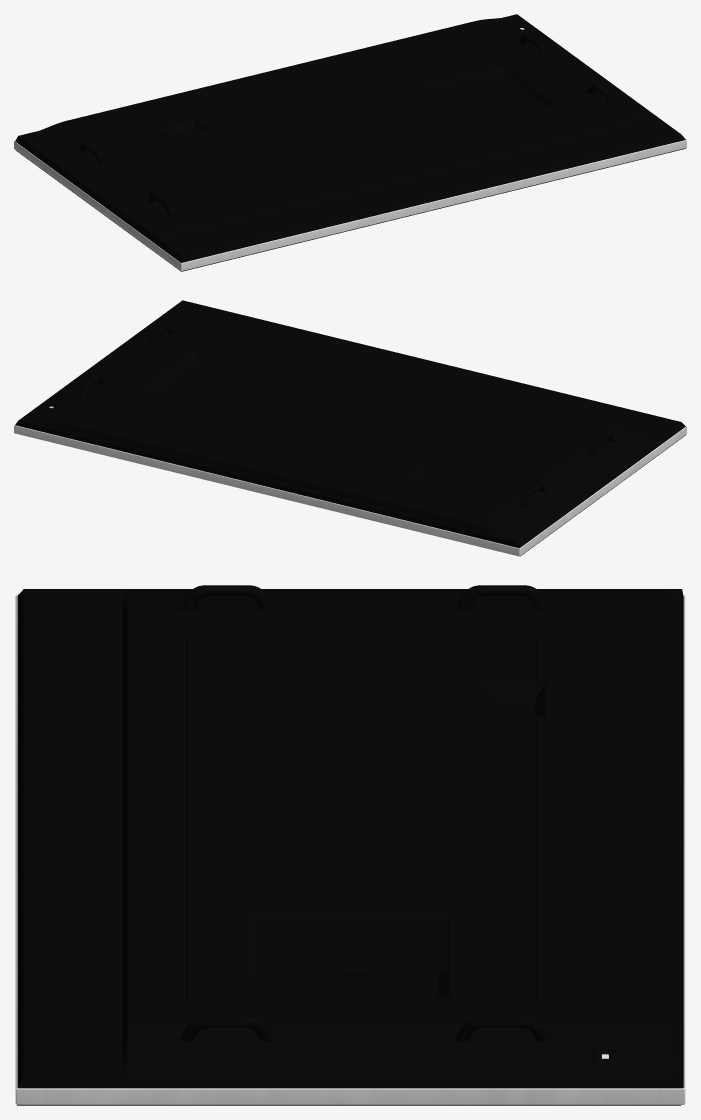
File: SM_TV_Samsung.obj
The picture shows the model from 3 angles, top to bottom: view 1: azimuth 30°, elevation 25°; view 2: azimuth 150°, elevation 25°; view 3: azimuth 270°, elevation 25°; orthographic projection. The views are drawn at different scales.
Visible parts, largest first — view 1: SM_TV_Samsung; view 2: SM_TV_Samsung; view 3: SM_TV_Samsung.
Boxes of the visible parts, left/top/right/bottom form: SM_TV_Samsung: left=14, top=14, right=686, bottom=271; SM_TV_Samsung: left=14, top=300, right=686, bottom=556; SM_TV_Samsung: left=15, top=585, right=685, bottom=1105.
Size of the model in its own units: 1.9 by 0.1043 by 1.09.
4 materials, 2 textured.
